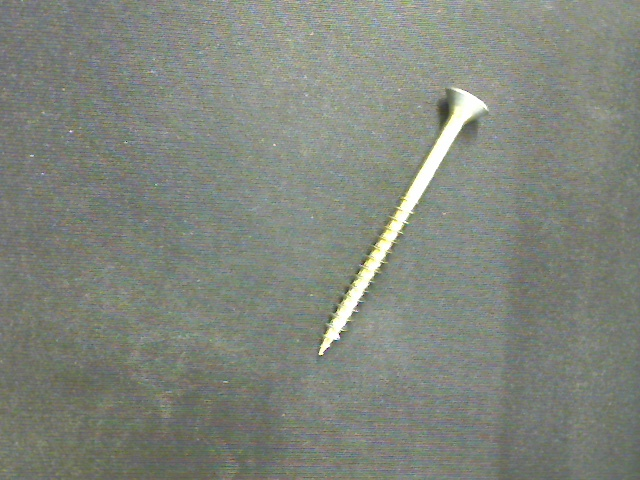screw4: (318, 85, 488, 356)
